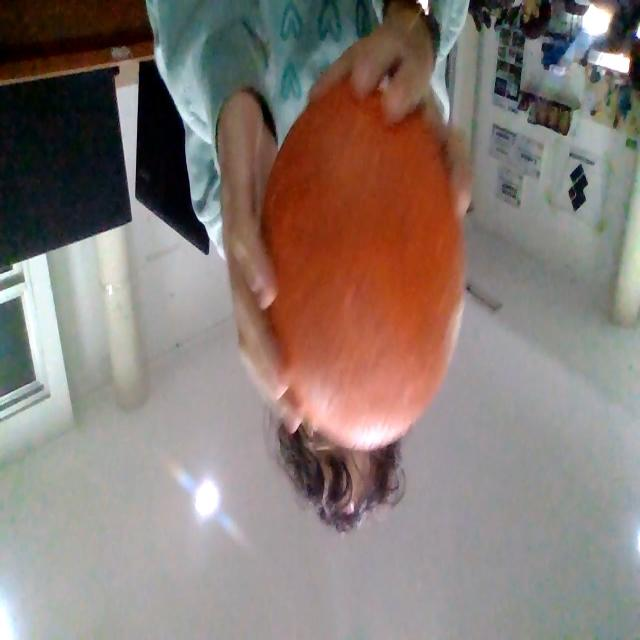ball: (260, 72, 468, 453)
